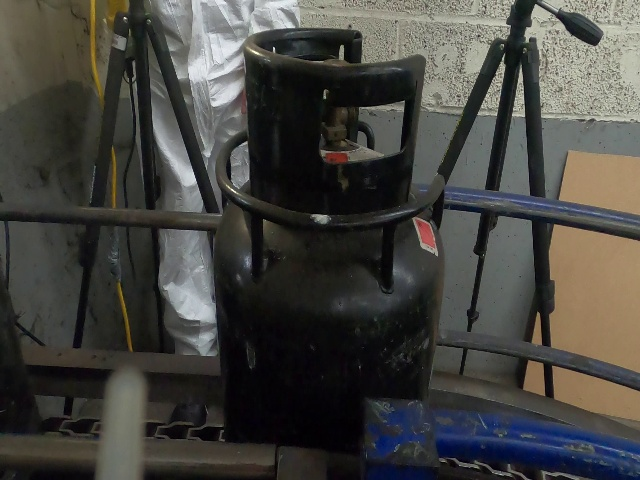gas_bottle: (5, 5, 640, 480)
